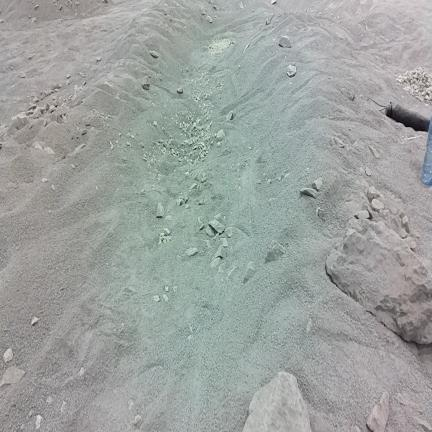Rock: (326, 219, 431, 343), (243, 372, 311, 431), (367, 392, 389, 431), (346, 193, 369, 215), (0, 367, 24, 388), (380, 210, 401, 232), (310, 412, 334, 431), (265, 241, 285, 262), (12, 113, 29, 130), (359, 181, 369, 209), (415, 417, 431, 431), (244, 262, 255, 282), (209, 219, 224, 233), (366, 186, 380, 201), (212, 245, 226, 260), (278, 35, 292, 48), (159, 228, 171, 243), (300, 188, 318, 198), (371, 199, 384, 211), (406, 236, 416, 251), (194, 170, 206, 182), (210, 257, 222, 269), (367, 205, 378, 218), (331, 137, 345, 147), (312, 178, 323, 190), (342, 89, 354, 100), (216, 129, 226, 142), (402, 215, 409, 233), (4, 348, 13, 362), (186, 247, 198, 257), (32, 107, 42, 119), (206, 225, 216, 237), (355, 210, 370, 218), (369, 146, 379, 158), (74, 143, 86, 153), (50, 113, 61, 123), (227, 266, 237, 277), (287, 65, 296, 77), (134, 415, 142, 428), (266, 13, 274, 26), (142, 76, 150, 89), (399, 228, 408, 239), (316, 207, 325, 218), (57, 106, 68, 115), (157, 203, 164, 217), (36, 415, 42, 429), (306, 319, 312, 333), (44, 147, 54, 155), (51, 83, 61, 91), (34, 142, 43, 150), (389, 206, 397, 215), (28, 103, 37, 111), (61, 401, 67, 413), (41, 90, 49, 98), (44, 103, 51, 112), (226, 227, 232, 237), (219, 262, 225, 272), (200, 6, 206, 16), (42, 119, 48, 129), (365, 167, 371, 177), (150, 51, 158, 58), (162, 294, 169, 302), (189, 183, 197, 190), (425, 84, 432, 92), (164, 4, 169, 15), (222, 238, 228, 247), (227, 111, 233, 120), (214, 213, 221, 220), (199, 223, 206, 230), (413, 83, 420, 90), (399, 211, 405, 219), (32, 317, 38, 325), (177, 198, 183, 206), (416, 67, 424, 73), (351, 426, 360, 431), (244, 44, 249, 53), (403, 86, 412, 91), (154, 295, 160, 302), (177, 87, 183, 94), (164, 228, 170, 235), (425, 73, 432, 79), (396, 77, 403, 83), (413, 71, 419, 78), (47, 396, 52, 404), (28, 410, 33, 418), (207, 15, 212, 23), (20, 72, 26, 78), (31, 17, 37, 23), (82, 129, 88, 135), (198, 199, 204, 205), (33, 97, 39, 103), (424, 95, 430, 101), (239, 2, 244, 9), (403, 71, 410, 76), (424, 80, 429, 87), (419, 95, 424, 101), (414, 95, 420, 100), (140, 141, 144, 148), (42, 178, 47, 183), (214, 5, 219, 10), (165, 286, 169, 292), (173, 286, 177, 292), (172, 149, 176, 155), (66, 74, 70, 79), (271, 0, 276, 4), (103, 0, 108, 4), (97, 57, 101, 62), (51, 185, 55, 190), (126, 142, 131, 146), (143, 156, 147, 161), (0, 19, 4, 23), (185, 171, 189, 175), (217, 143, 221, 147), (154, 121, 157, 126), (59, 5, 62, 10), (76, 2, 79, 7), (162, 127, 165, 132), (131, 135, 134, 139), (205, 94, 207, 100)
